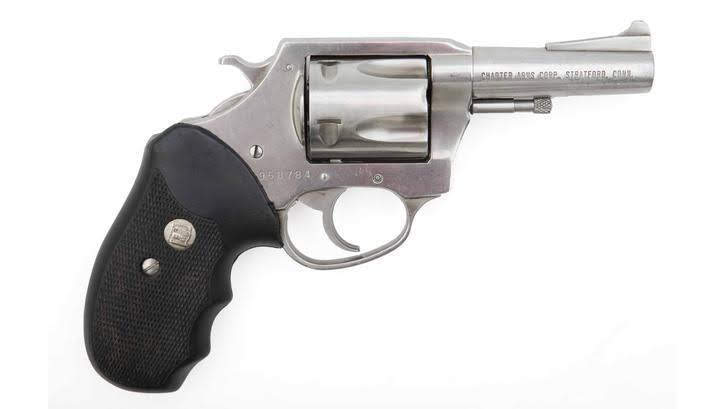gun: (49, 12, 674, 395)
